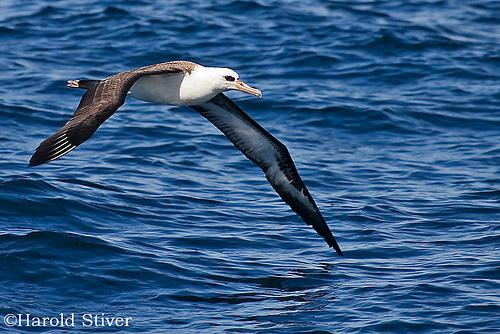002.Laysan_Albatross: (30, 60, 341, 257)
